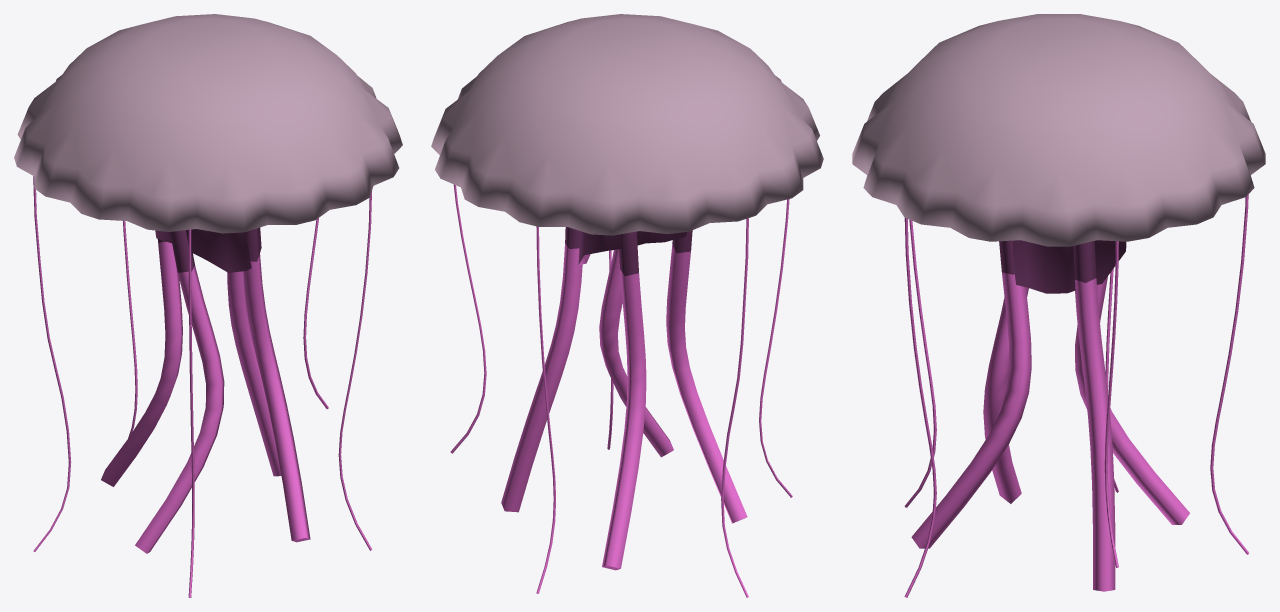
The model's file is qualle.glb.
3 renders of one model, left to right at view 1: azimuth 30°, elevation 25°; view 2: azimuth 150°, elevation 25°; view 3: azimuth 270°, elevation 25°, orthographic. The views are drawn at different scales.
Visible parts, largest first — view 1: qualle-col; view 2: qualle-col; view 3: qualle-col.
Boxes of the visible parts, x1,y1,x2,y2 form: qualle-col: [14, 14, 402, 597]; qualle-col: [431, 14, 823, 597]; qualle-col: [852, 14, 1265, 597].
Bounding box in the file's own units: 0.032 × 0.0447 × 0.032.
